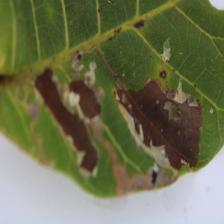leaf miner: (0, 0, 224, 199), (113, 76, 203, 172)
